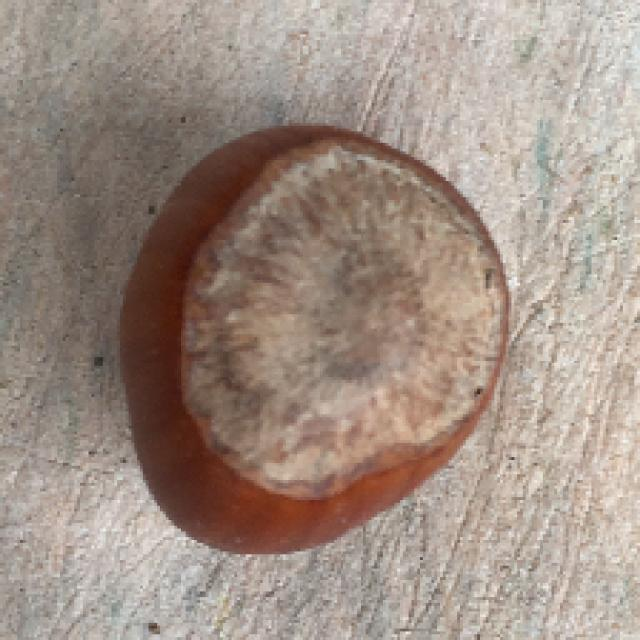qualityHazelnut: (110, 106, 519, 578)
